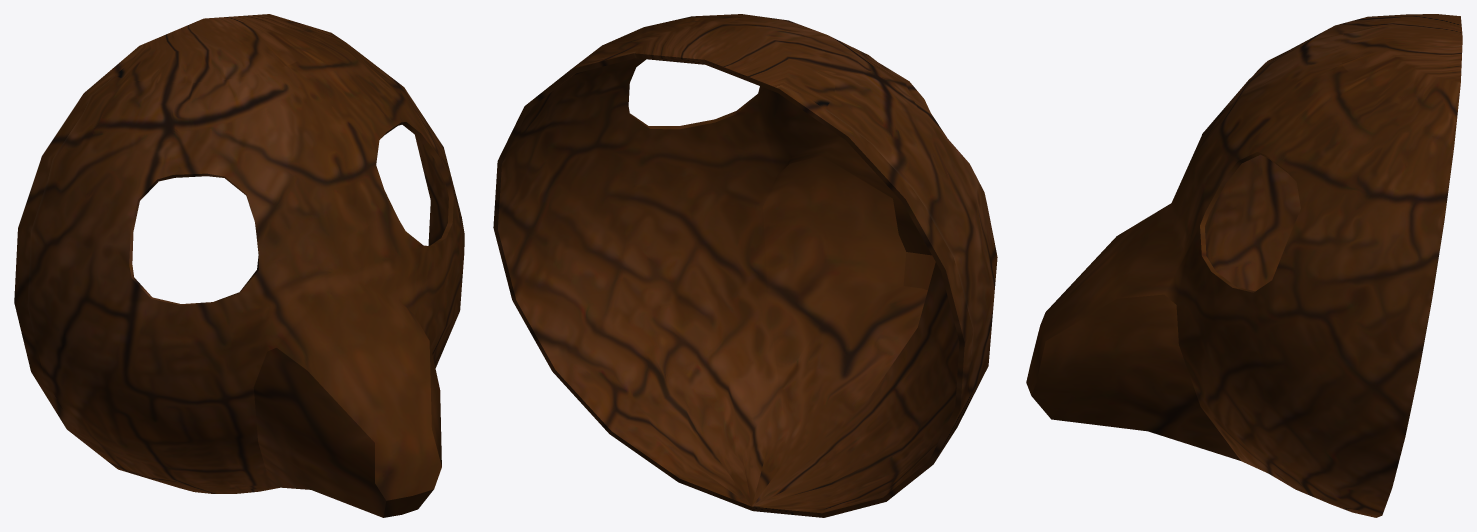
File: LampLight_3DAsset_PodMask.FBX
3 views of the same model, side by side, from view 1: azimuth 30°, elevation 25°; view 2: azimuth 150°, elevation 25°; view 3: azimuth 270°, elevation 25° (orthographic). The views are drawn at different scales.
Visible parts, largest first — view 1: Pod_Mask; view 2: Pod_Mask; view 3: Pod_Mask.
Part boxes in pixels (x1,y1,x2,y2): Pod_Mask: (14,14,464,517); Pod_Mask: (493,14,997,517); Pod_Mask: (1026,14,1462,517).
Size of the model in its own units: 83.14 by 82.11 by 70.86.
